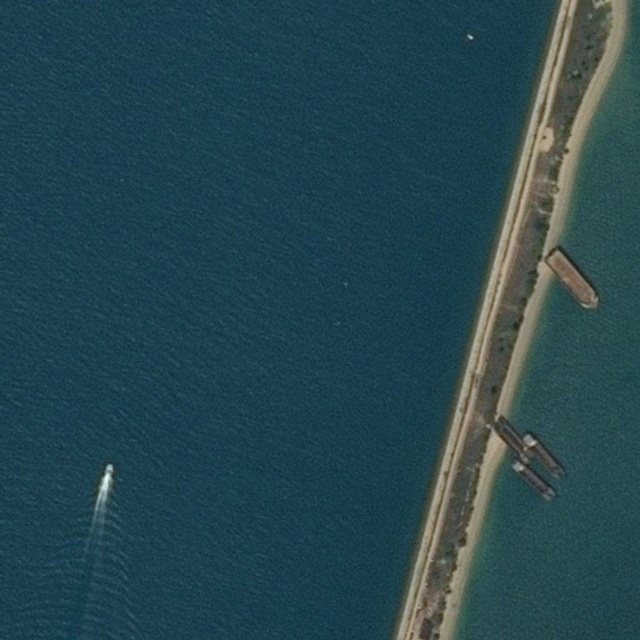wake: (35, 446, 152, 634)
